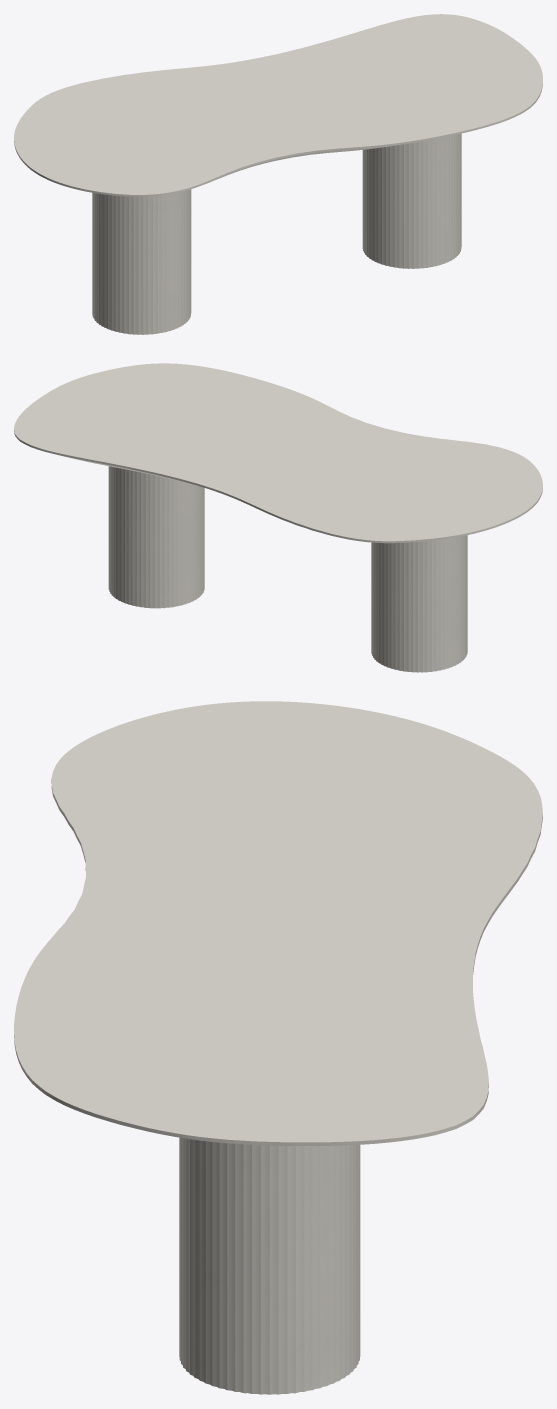
The model's file is pale_wave_facet_ripplesecond.glb.
The picture shows the model from 3 angles, top to bottom: view 1: azimuth 30°, elevation 25°; view 2: azimuth 150°, elevation 25°; view 3: azimuth 270°, elevation 25°; orthographic projection. The views are drawn at different scales.
Visible parts, largest first — view 1: facet_wave, ripplesecond; view 2: facet_wave, ripplesecond; view 3: facet_wave, ripplesecond.
Part boxes in pixels (box(x1,y1,x2,y2)): facet_wave: box(14, 14, 542, 196); ripplesecond: box(92, 133, 461, 334); facet_wave: box(14, 363, 542, 543); ripplesecond: box(108, 466, 467, 672); facet_wave: box(14, 701, 542, 1145); ripplesecond: box(179, 1137, 360, 1394).
Size of the model in its own units: 7.5 by 2.5 by 3.8.
Materials: 1 (1 with a texture image).
